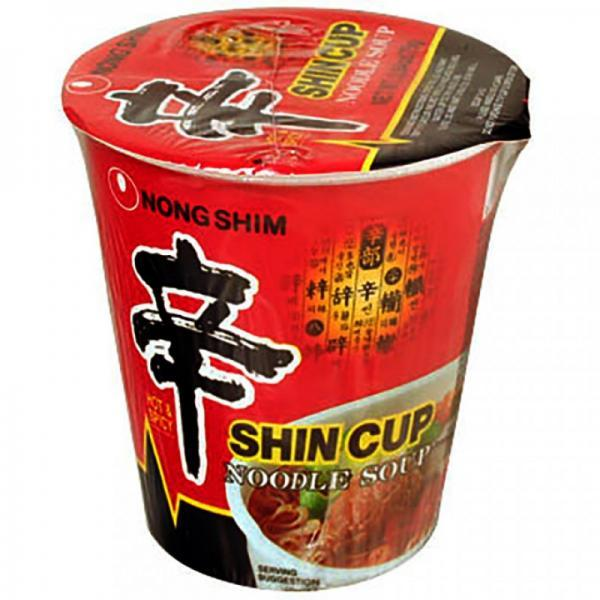instant_noodle: (62, 8, 527, 591)
